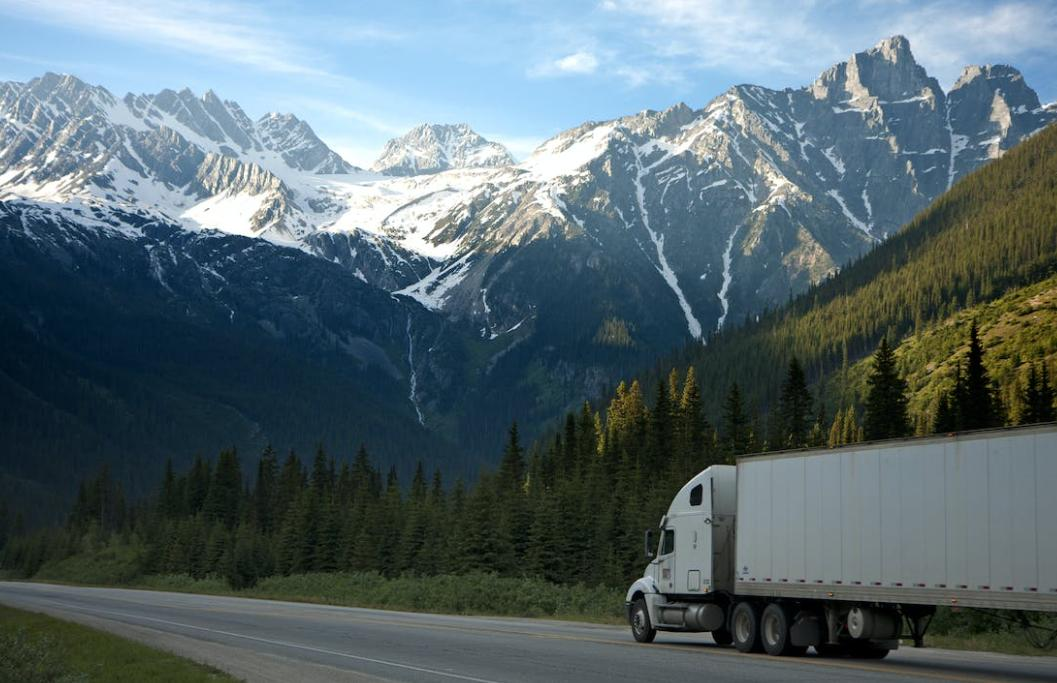vehicle: (627, 419, 1057, 660)
